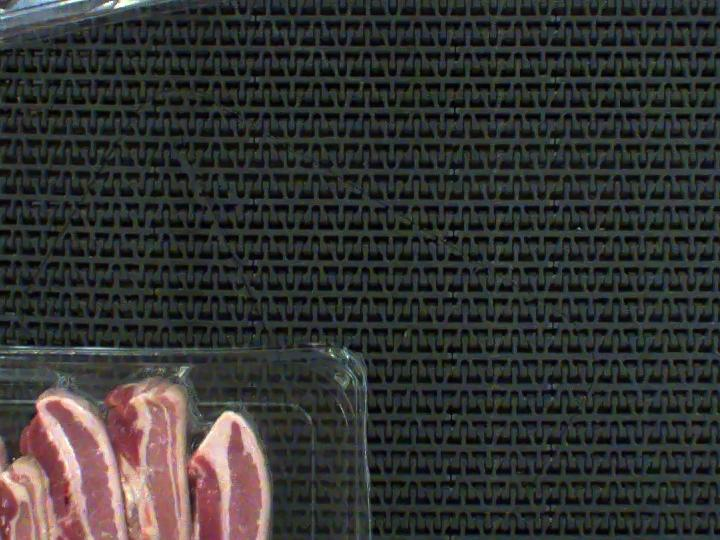unsealed: (0, 348, 298, 507)
